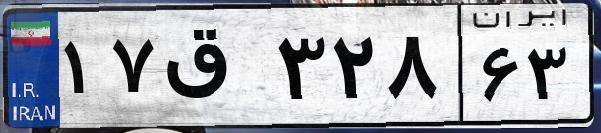1: (57, 26, 110, 100)
2: (330, 28, 385, 110)
3: (270, 28, 330, 110), (525, 38, 570, 115)
6: (475, 38, 525, 113)
7: (110, 28, 158, 98)
8: (385, 28, 445, 110)
ق: (158, 20, 270, 120)
